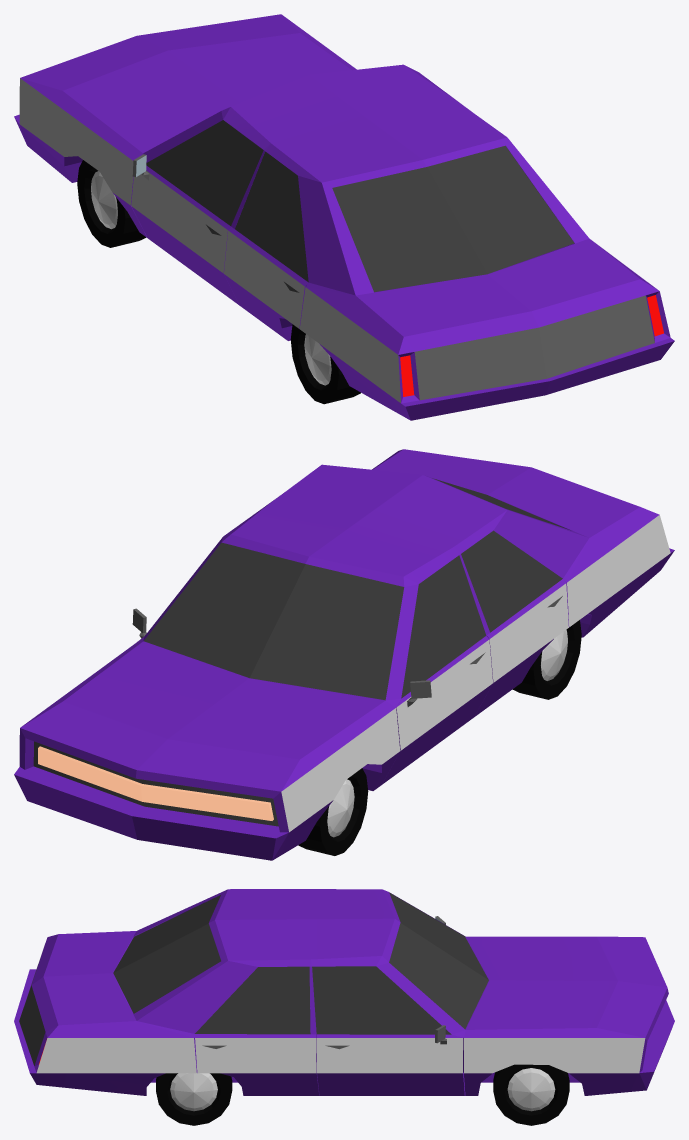
Rendered from Car_Long_2.glb.
3 views of the same model, one above another, from view 1: azimuth 30°, elevation 25°; view 2: azimuth 150°, elevation 25°; view 3: azimuth 270°, elevation 25° (orthographic). The views are drawn at different scales.
Parts seen in each view (by area): view 1: SedanA_Body.010, SedanA_DoorL.010, SedanA_DoorL2.010, Sedan_A_wheelFL.010, Sedan_A_wheelRL.010; view 2: SedanA_Body.010, SedanA_DoorL.010, SedanA_DoorL2.010, Sedan_A_wheelFL.010, Sedan_A_wheelRL.010; view 3: SedanA_Body.010, SedanA_DoorR.010, SedanA_DoorR2.010, Sedan_A_wheelFR.010, Sedan_A_wheelRR.010.
Part boxes in pixels (box(x1,y1,x2,y2)): SedanA_Body.010: box(14, 14, 674, 420); SedanA_DoorL.010: box(131, 120, 263, 305); SedanA_DoorL2.010: box(224, 151, 308, 340); Sedan_A_wheelFL.010: box(77, 160, 145, 247); Sedan_A_wheelRL.010: box(290, 324, 360, 404); SedanA_Body.010: box(14, 449, 674, 860); SedanA_DoorL.010: box(382, 555, 492, 784); SedanA_DoorL2.010: box(461, 530, 568, 717); Sedan_A_wheelFL.010: box(298, 768, 368, 855); Sedan_A_wheelRL.010: box(512, 620, 581, 699); SedanA_Body.010: box(14, 889, 674, 1095); SedanA_DoorR.010: box(312, 966, 464, 1095); SedanA_DoorR2.010: box(194, 966, 319, 1095); Sedan_A_wheelFR.010: box(493, 1064, 569, 1125); Sedan_A_wheelRR.010: box(156, 1073, 232, 1125).
Size of the model in its own units: 2.14 by 1.39 by 5.18.
